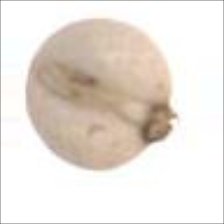L5: (37, 60, 148, 131), (138, 100, 183, 151)
L6: (22, 16, 182, 173)
